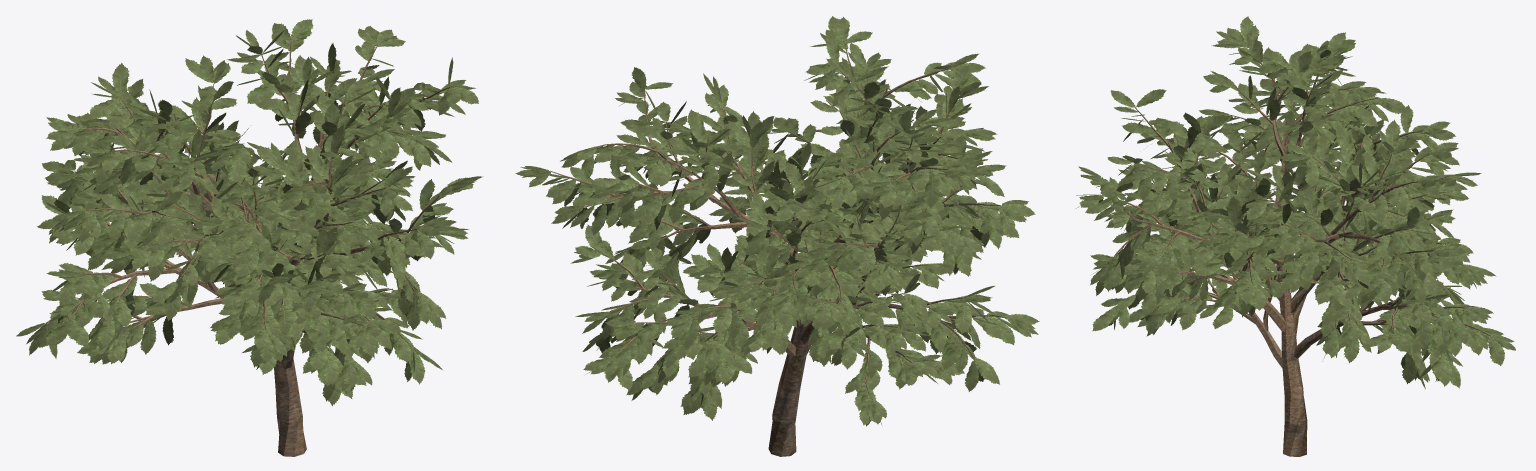
The model's file is castagno_a_lod.gltf.
3 renders of one model, left to right at view 1: azimuth 30°, elevation 25°; view 2: azimuth 150°, elevation 25°; view 3: azimuth 270°, elevation 25°, orthographic. The views are drawn at different scales.
Visible parts, largest first — view 1: castagno_a_lod_foglie, castagno_a_lod_rami; view 2: castagno_a_lod_foglie, castagno_a_lod_rami; view 3: castagno_a_lod_foglie, castagno_a_lod_rami.
Boxes of the visible parts, x1,y1,x2,y2 form: castagno_a_lod_foglie: (16,19,482,405); castagno_a_lod_rami: (46,41,451,456); castagno_a_lod_foglie: (515,16,1039,426); castagno_a_lod_rami: (550,43,1006,456); castagno_a_lod_foglie: (1076,16,1515,389); castagno_a_lod_rami: (1100,45,1490,456).
Bounding box in the file's own units: 7.54 × 6.5 × 7.34.
2 materials, 2 textured.
